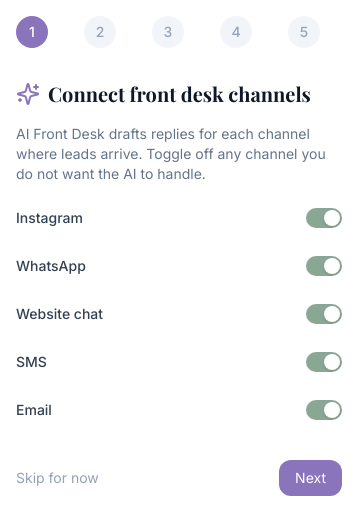
Test case: AISetupWizard › navigates to next step (Set voice) when Next is clicked
Click the button with test id "next-button" at (311, 478), box x1=279 y1=460 x2=342 y2=496
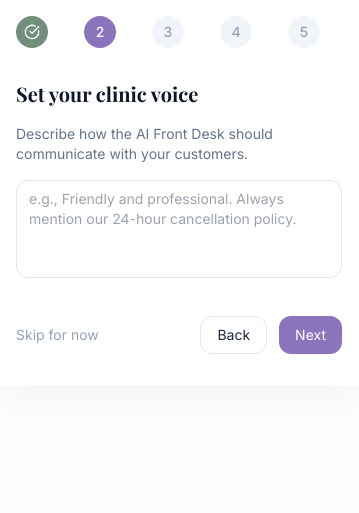
expect the heading "Set your clinic voice" is shown: met, box x1=16 y1=80 x2=198 y2=107
